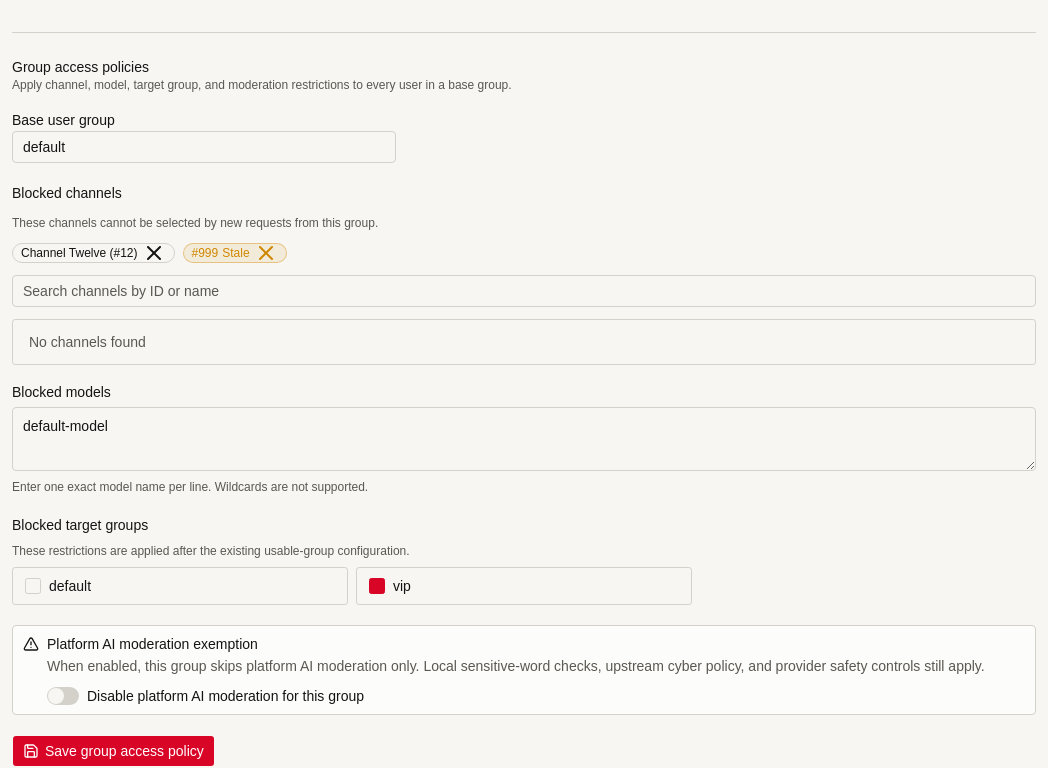
Test: group access policies › restores the cached policy when switching back to a previously loaded group
This screenshot has width=1048, height=768.
Check: the text box showing "default-model" is shown, box left=12, top=407, right=1036, bottom=471
Select "vip" in the dropdown labelled "Base user group". click: coordinates (204, 147)
box: left=12, top=131, right=396, bottom=163
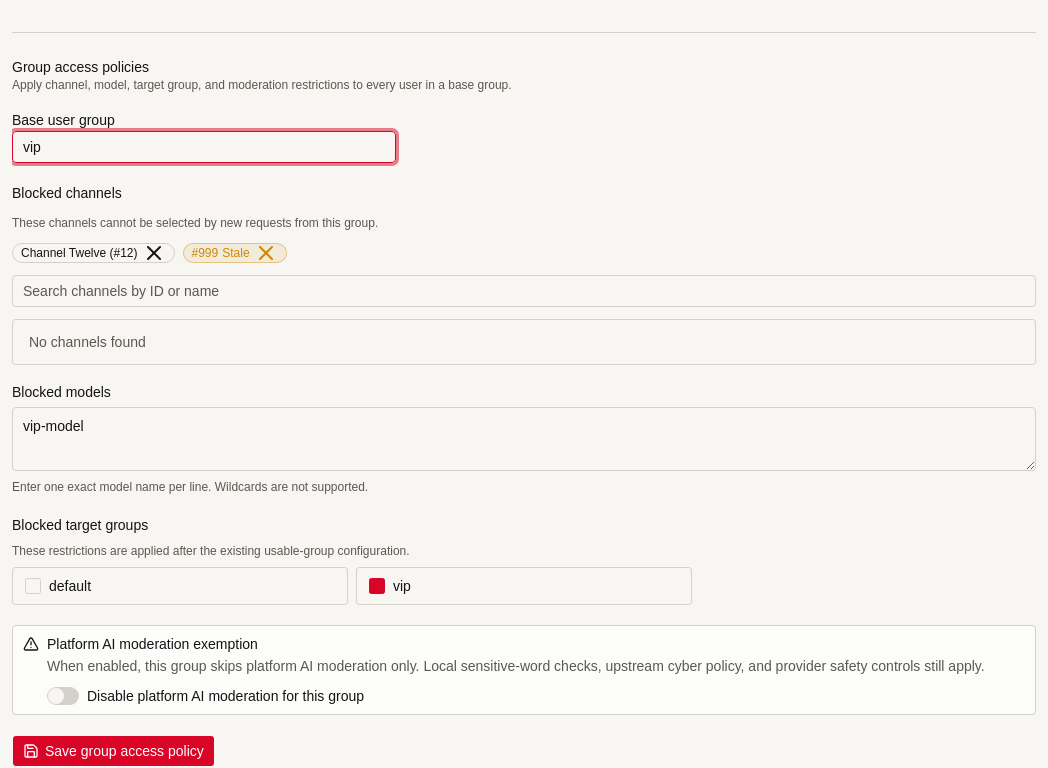
Check: the text box showing "vip-model" is shown, box left=12, top=407, right=1036, bottom=471
Select "default" in the dropdown labelled "Base user group". click: coordinates (204, 147)
box: left=12, top=131, right=396, bottom=163
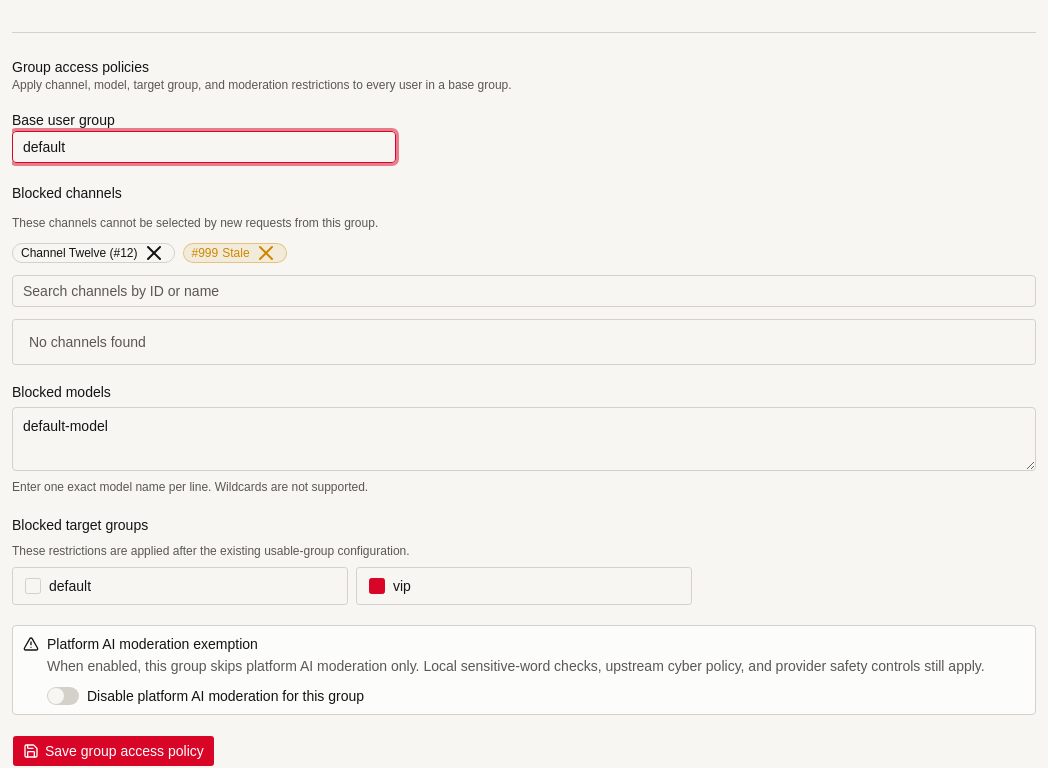
Check: the text box showing "default-model" is shown, box left=12, top=407, right=1036, bottom=471
